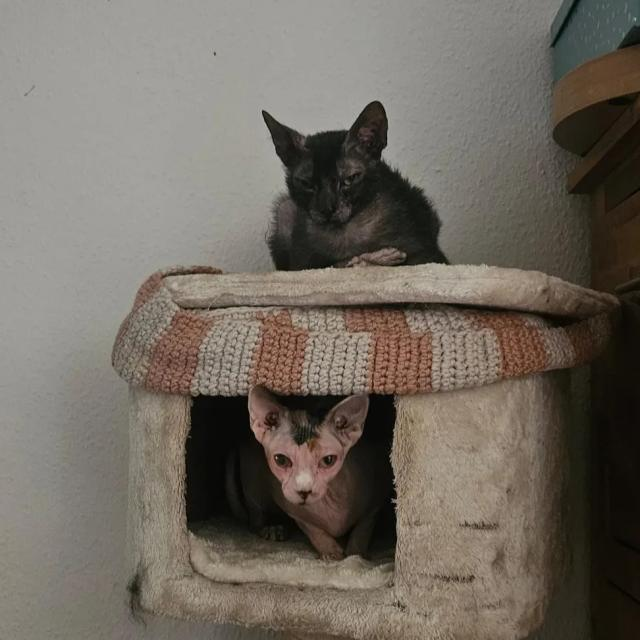Lykoi: (256, 96, 453, 274)
Sphynx: (238, 380, 388, 560)
